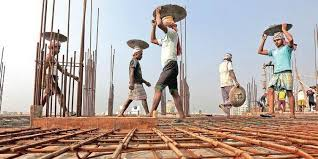arm: (271, 35, 297, 54), (256, 30, 273, 56), (227, 63, 242, 87), (153, 12, 170, 31), (282, 28, 296, 50), (258, 38, 270, 56), (150, 26, 159, 47)
face: (273, 35, 284, 45)
footwear: (217, 102, 227, 109)
glove: (261, 30, 269, 40)
human: (128, 2, 188, 117), (255, 21, 300, 108), (215, 45, 243, 108)
leg: (148, 71, 166, 116), (259, 86, 281, 119), (283, 80, 298, 119), (169, 88, 187, 118), (118, 94, 135, 117), (137, 92, 151, 117), (218, 85, 228, 109)
nofootwear: (260, 109, 273, 119)
nohelmet: (159, 12, 178, 29)
novest: (154, 24, 181, 66), (269, 42, 293, 72), (218, 61, 236, 86), (127, 57, 141, 83)
